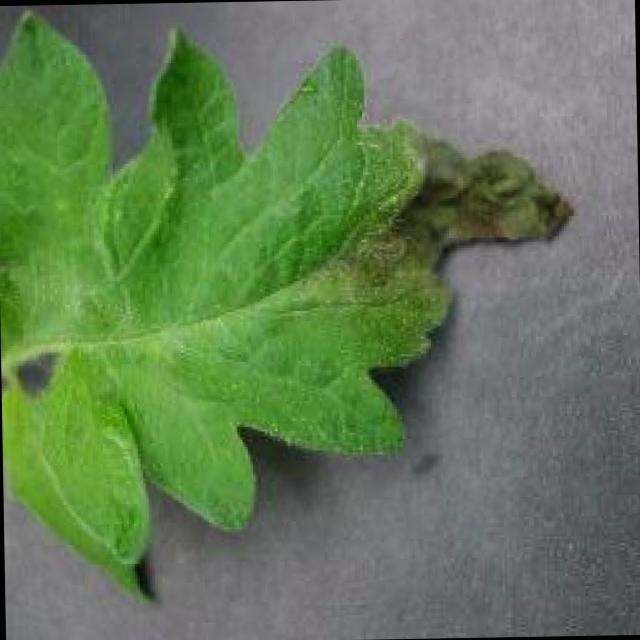Tomato late blight leaf: (0, 0, 579, 610)
